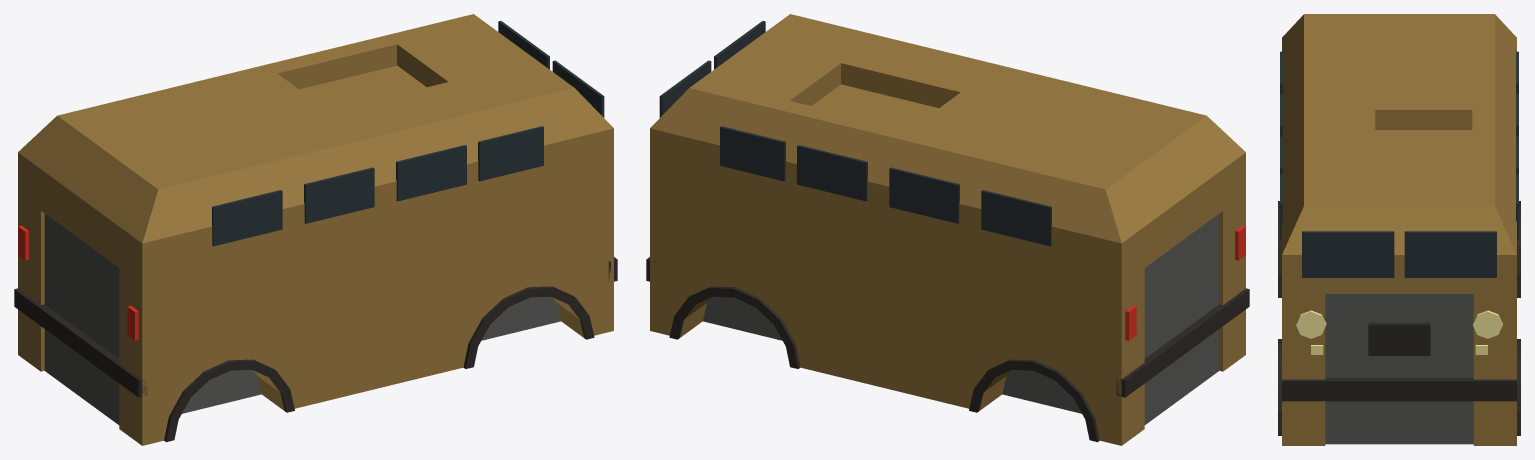
Rendered from base_bukhanka.glb.
3 views of the same model, side by side, from view 1: azimuth 30°, elevation 25°; view 2: azimuth 150°, elevation 25°; view 3: azimuth 270°, elevation 25° (orthographic). The views are drawn at different scales.
Parts seen in each view (by area): view 1: base_bukhanka; view 2: base_bukhanka; view 3: base_bukhanka.
Boxes of the visible parts, left/top/right/bottom form: base_bukhanka: left=14, top=14, right=617, bottom=445; base_bukhanka: left=646, top=14, right=1249, bottom=445; base_bukhanka: left=1278, top=14, right=1520, bottom=445.
Size of the model in its own units: 5.2 by 2.5 by 2.42.
